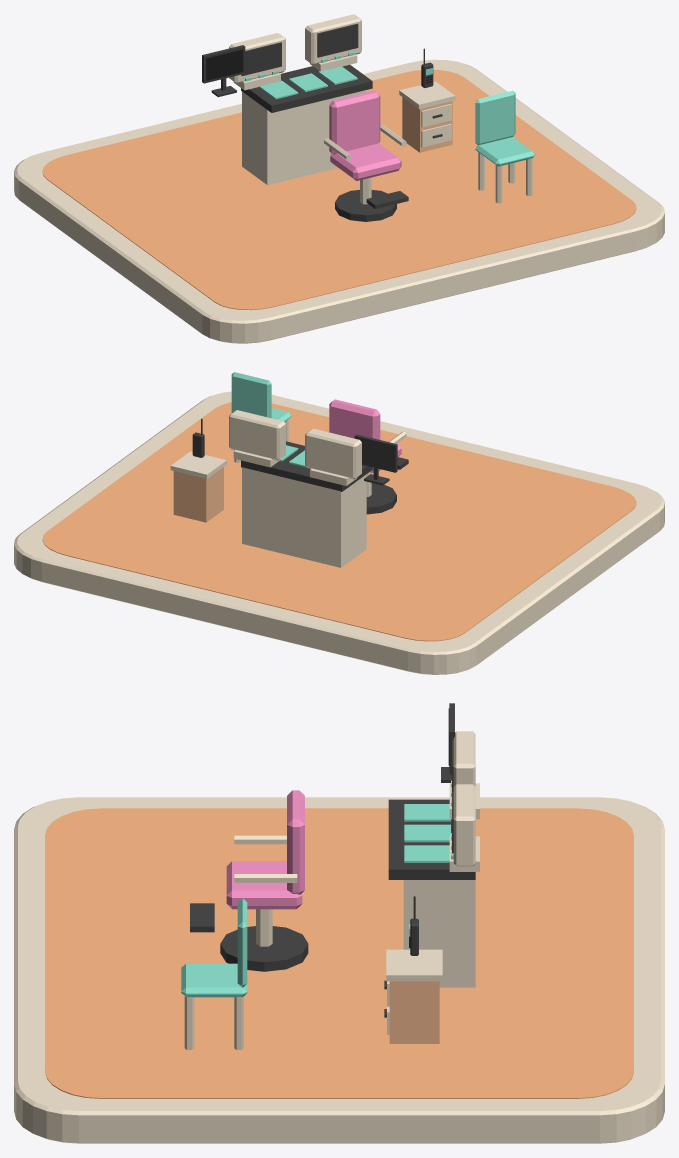
Rendered from room.fbx.
3 renders of one model, top to bottom at view 1: azimuth 30°, elevation 25°; view 2: azimuth 150°, elevation 25°; view 3: azimuth 270°, elevation 25°, orthographic. The views are drawn at different scales.
Parts seen in each view (by area): view 1: COM-02 Floor Surface, COM-01 Rounded Base Direct, Console, Back, Panel, Backrest, Seat, Frame, Housing.001, Body, Base, Seat.001 (+6 smaller); view 2: COM-02 Floor Surface, COM-01 Rounded Base Direct, Console, Housing.001, Housing, Body, Back, Backrest, Panel, Frame, Top, Base; view 3: COM-02 Floor Surface, COM-01 Rounded Base Direct, Console, Body, Panel, Base, Seat, Seat.001, Housing.001, Top, Back, Housing (+5 smaller).
Boxes of the visible parts, left/top/right/bottom form: COM-02 Floor Surface: left=42, top=69, right=636, bottom=310; COM-01 Rounded Base Direct: left=14, top=59, right=664, bottom=343; Console: left=242, top=90, right=366, bottom=184; Back: left=329, top=90, right=380, bottom=154; Panel: left=241, top=65, right=372, bottom=112; Backrest: left=475, top=90, right=515, bottom=145; Seat: left=330, top=143, right=401, bottom=180; Frame: left=202, top=45, right=245, bottom=97; Housing.001: left=305, top=14, right=361, bottom=64; Body: left=402, top=97, right=452, bottom=152; Base: left=335, top=190, right=396, bottom=221; Seat.001: left=475, top=137, right=535, bottom=166; COM-02 Floor Surface: left=42, top=402, right=636, bottom=641; COM-01 Rounded Base Direct: left=14, top=391, right=664, bottom=674; Console: left=242, top=467, right=366, bottom=567; Housing.001: left=229, top=410, right=285, bottom=460; Housing: left=305, top=428, right=361, bottom=479; Body: left=173, top=467, right=223, bottom=522; Back: left=329, top=399, right=380, bottom=439; Backrest: left=231, top=372, right=271, bottom=418; Panel: left=241, top=441, right=372, bottom=491; Frame: left=354, top=434, right=397, bottom=485; Top: left=170, top=451, right=226, bottom=478; Base: left=366, top=483, right=396, bottom=514; COM-02 Floor Surface: left=45, top=808, right=633, bottom=1098; COM-01 Rounded Base Direct: left=14, top=797, right=664, bottom=1143; Console: left=403, top=880, right=475, bottom=987; Body: left=389, top=981, right=439, bottom=1043; Panel: left=388, top=799, right=475, bottom=879; Base: left=220, top=926, right=308, bottom=971; Seat: left=226, top=861, right=302, bottom=909; Seat.001: left=181, top=963, right=247, bottom=997; Housing.001: left=453, top=784, right=475, bottom=866; Top: left=386, top=949, right=442, bottom=981; Back: left=287, top=790, right=304, bottom=894; Housing: left=453, top=731, right=475, bottom=786.
Bounding box in the file's own units: 600 × 191 × 520.
